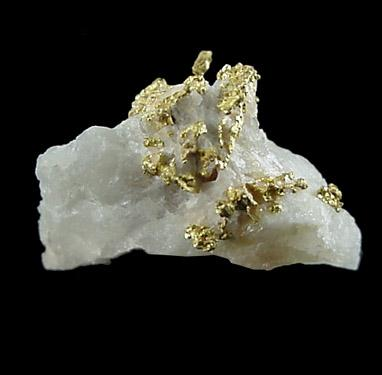gold: (185, 173, 308, 252), (180, 64, 260, 180), (129, 51, 212, 128), (142, 152, 198, 192), (318, 184, 344, 211), (144, 138, 165, 148)
